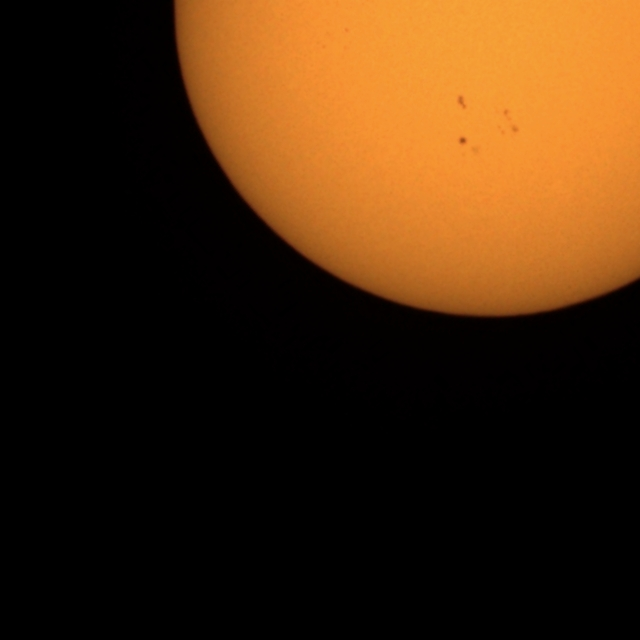sunspot: (496, 108, 521, 136), (457, 135, 480, 157), (456, 94, 468, 111), (457, 136, 468, 147)
